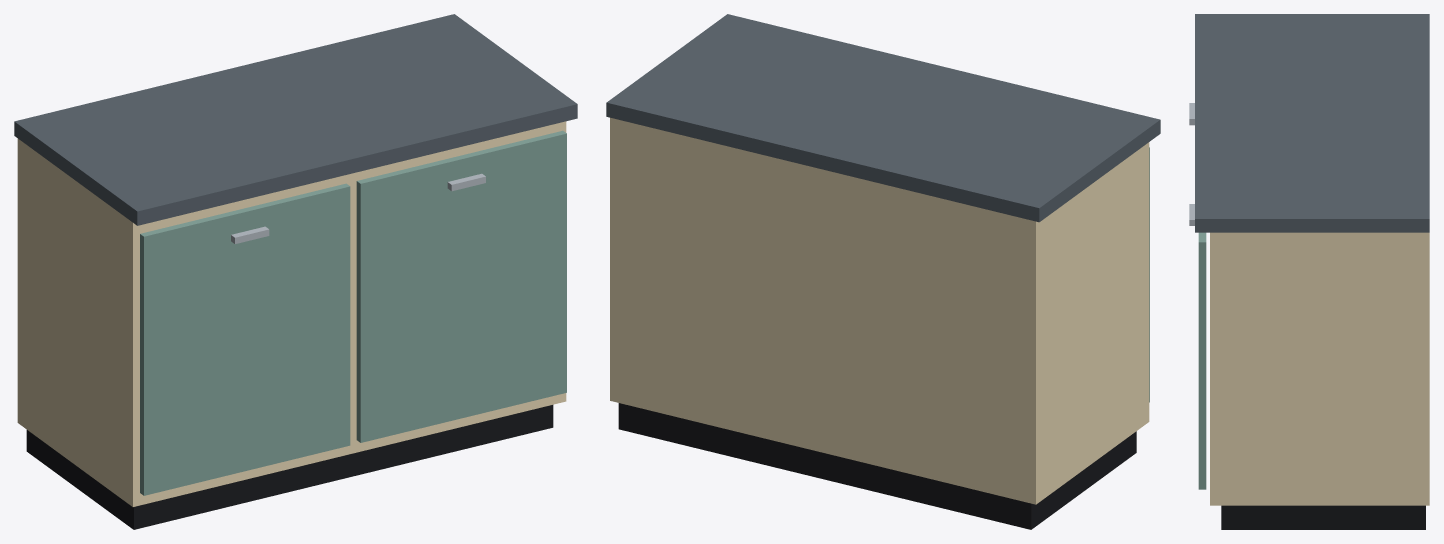
File: counter.fbx
3 renders of one model, left to right at view 1: azimuth 30°, elevation 25°; view 2: azimuth 150°, elevation 25°; view 3: azimuth 270°, elevation 25°, orthographic. The views are drawn at different scales.
Visible parts, largest first — view 1: counter; view 2: counter; view 3: counter.
Boxes of the visible parts, <box> form: counter: <box>14,14,577,529</box>; counter: <box>606,14,1160,529</box>; counter: <box>1189,14,1429,529</box>.
Bounding box in the file's own units: 5.12 × 3.68 × 2.54.
